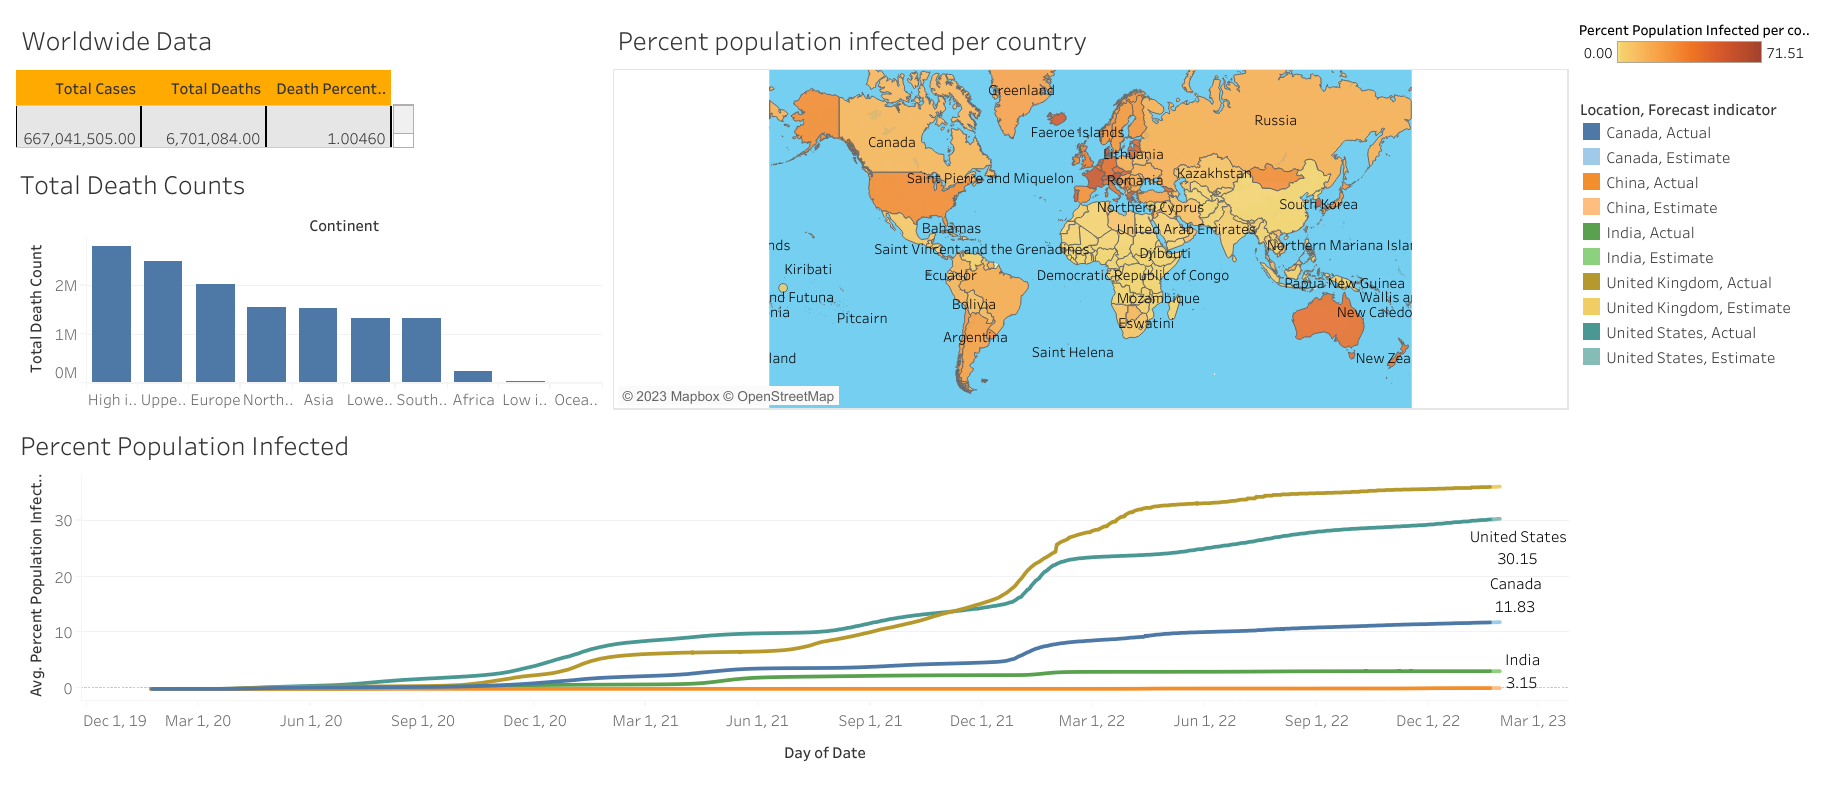

The page's visual inventory and layout, read from the dashboard file:
{"tool":"tableau","page":{"name":"Dashboard 1","canvas":[1000,1000],"units":"permille","ordinal":0},"visuals":[{"type":"worksheet","title":"Sheet 1","mark":"Automatic","box":[4.8,9.4,328.3,183.3]},{"type":"worksheet","title":"Sheet 3","mark":"Automatic","box":[333.1,9.4,531.7,519.4]},{"type":"legend","title":"Sheet 3","param":"[federated.04zt8u81jyymg215mg79g01hnpo8].[sum:PercentPopulationInfected:qk]","box":[864.8,9.4,130.4,78.7]},{"type":"legend","title":"Sheet 4","param":"[federated.1c090bz0ahzet31azpm0i0ocdui3].[none:Location:nk]\n[federated.1c090bz0a","box":[864.8,88.1,130.4,282]},{"type":"worksheet","title":"Sheet 2","mark":"Automatic","rows":["TotalDeathCount"],"cols":["location"],"box":[4.8,192.7,328.3,336.1]},{"type":"worksheet","title":"Sheet 4","mark":"Automatic","rows":["PercentPopulationInfected"],"cols":["date"],"box":[4.8,528.8,860,461.8]}]}

Visuals, with their boxes on the dashboard's canvas, which has no fixed pixel size, in thousandths of its width and height (x1, y1, x2, y2). These are canvas units, not pixel positions in the 1824x785 screenshot, which may show the page scaled, cropped or inside an application window:
"Sheet 1" worksheet: <region>5, 9, 333, 193</region>
"Sheet 3" worksheet: <region>333, 9, 865, 529</region>
"Sheet 3" legend: <region>865, 9, 995, 88</region>
"Sheet 4" legend: <region>865, 88, 995, 370</region>
"Sheet 2" worksheet: <region>5, 193, 333, 529</region>
"Sheet 4" worksheet: <region>5, 529, 865, 991</region>
